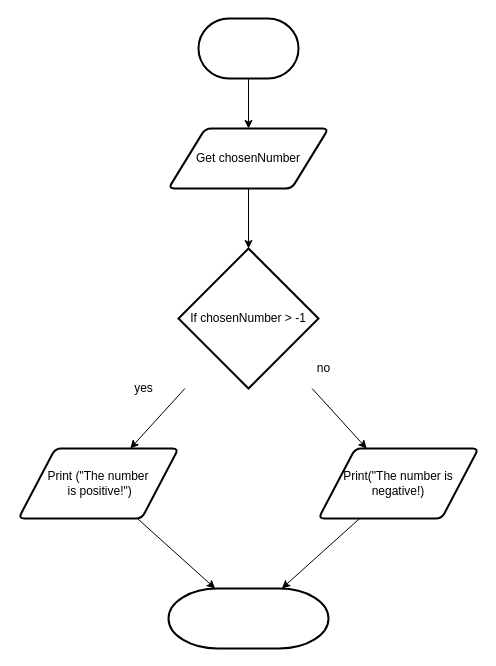
The diagram is 496 pixels wide and 666 high, and some of its shapes have lost their labels. Each missing label, with the centre of its shape:
"Start" belongs at [248,48].
"Stop" belongs at [248,618].
